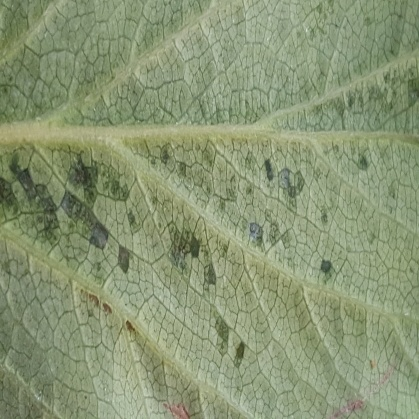Angular_LS: (2, 45, 418, 287)
